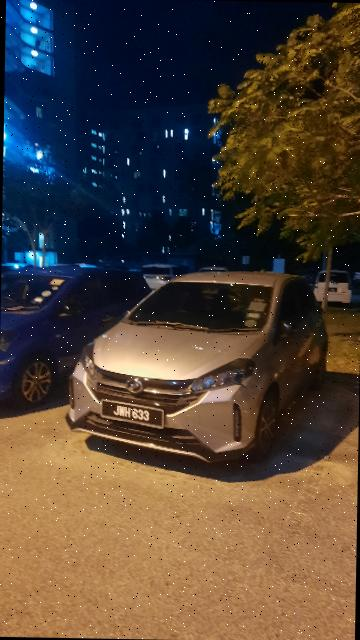License_Plate: (98, 395, 169, 433)
car: (66, 263, 333, 467)
